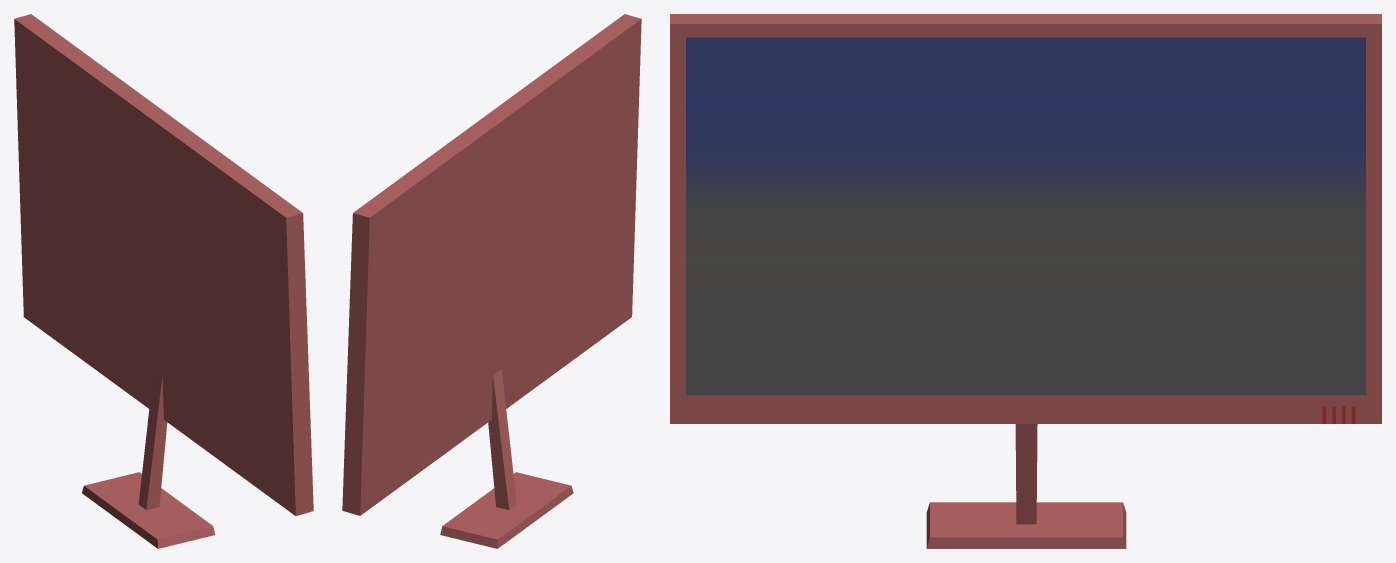
The model's file is Office2_monitor1.fbx.
3 renders of one model, left to right at view 1: azimuth 30°, elevation 25°; view 2: azimuth 150°, elevation 25°; view 3: azimuth 270°, elevation 25°, orthographic. The views are drawn at different scales.
Visible parts, largest first — view 1: Office2_monitor1; view 2: Office2_monitor1; view 3: Office2_monitor1.
Part boxes in pixels (left/top/right/bottom): Office2_monitor1: left=14, top=14, right=313, bottom=548; Office2_monitor1: left=342, top=14, right=641, bottom=548; Office2_monitor1: left=670, top=14, right=1381, bottom=548.
Size of the model in its own units: 11.04 by 72.07 by 89.68.
